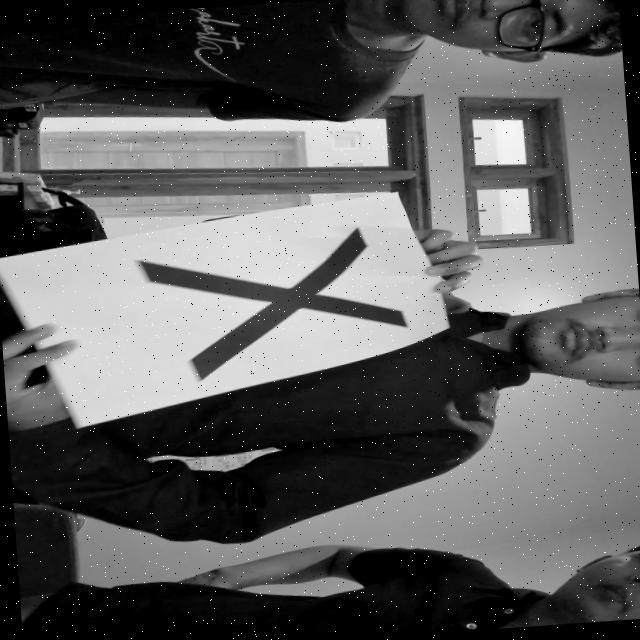x: (126, 211, 414, 400)
